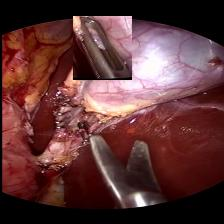Grasper: (72, 16, 131, 80)
Scissors: (80, 133, 168, 208)
